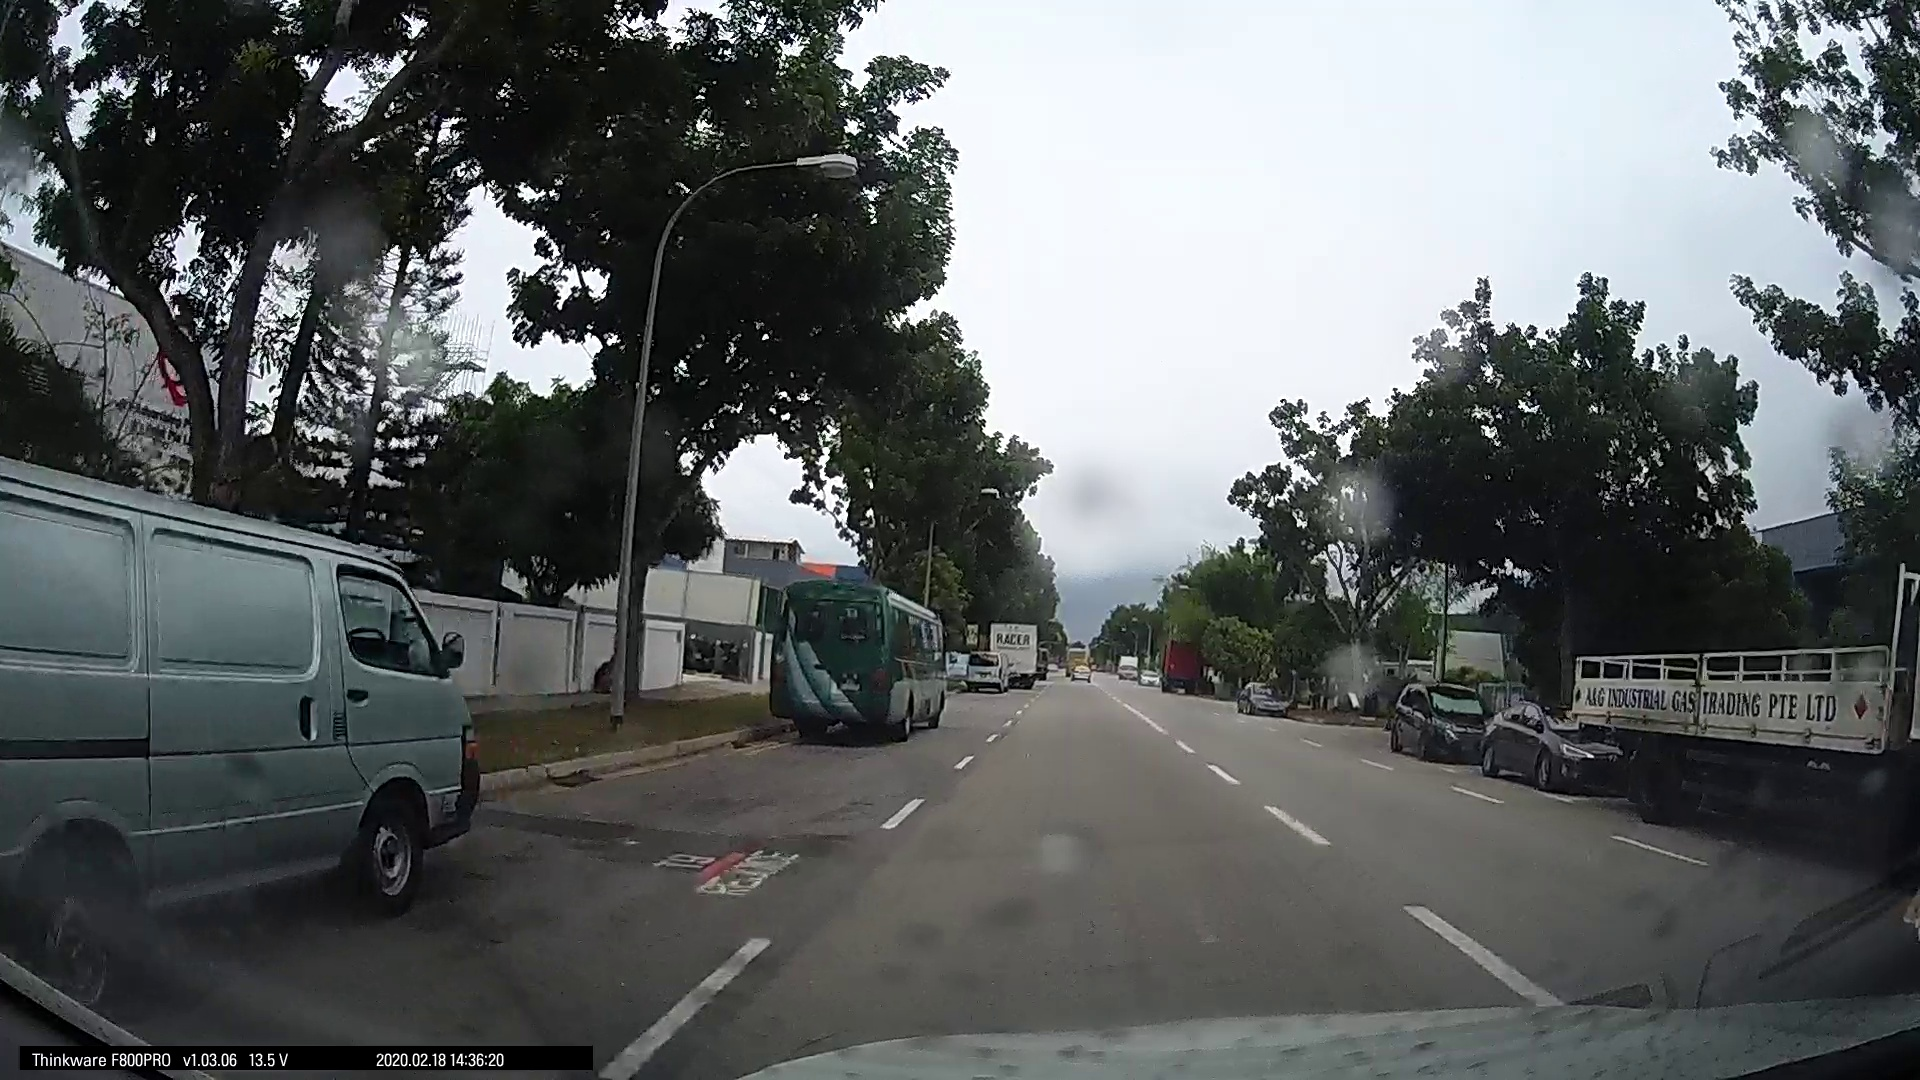Heavy Vehicle: (1575, 560, 1909, 808), (761, 574, 948, 741), (971, 621, 1039, 687)
Light Vehicle: (7, 485, 480, 984), (1476, 695, 1609, 791), (1383, 676, 1487, 764), (955, 644, 1007, 692)
